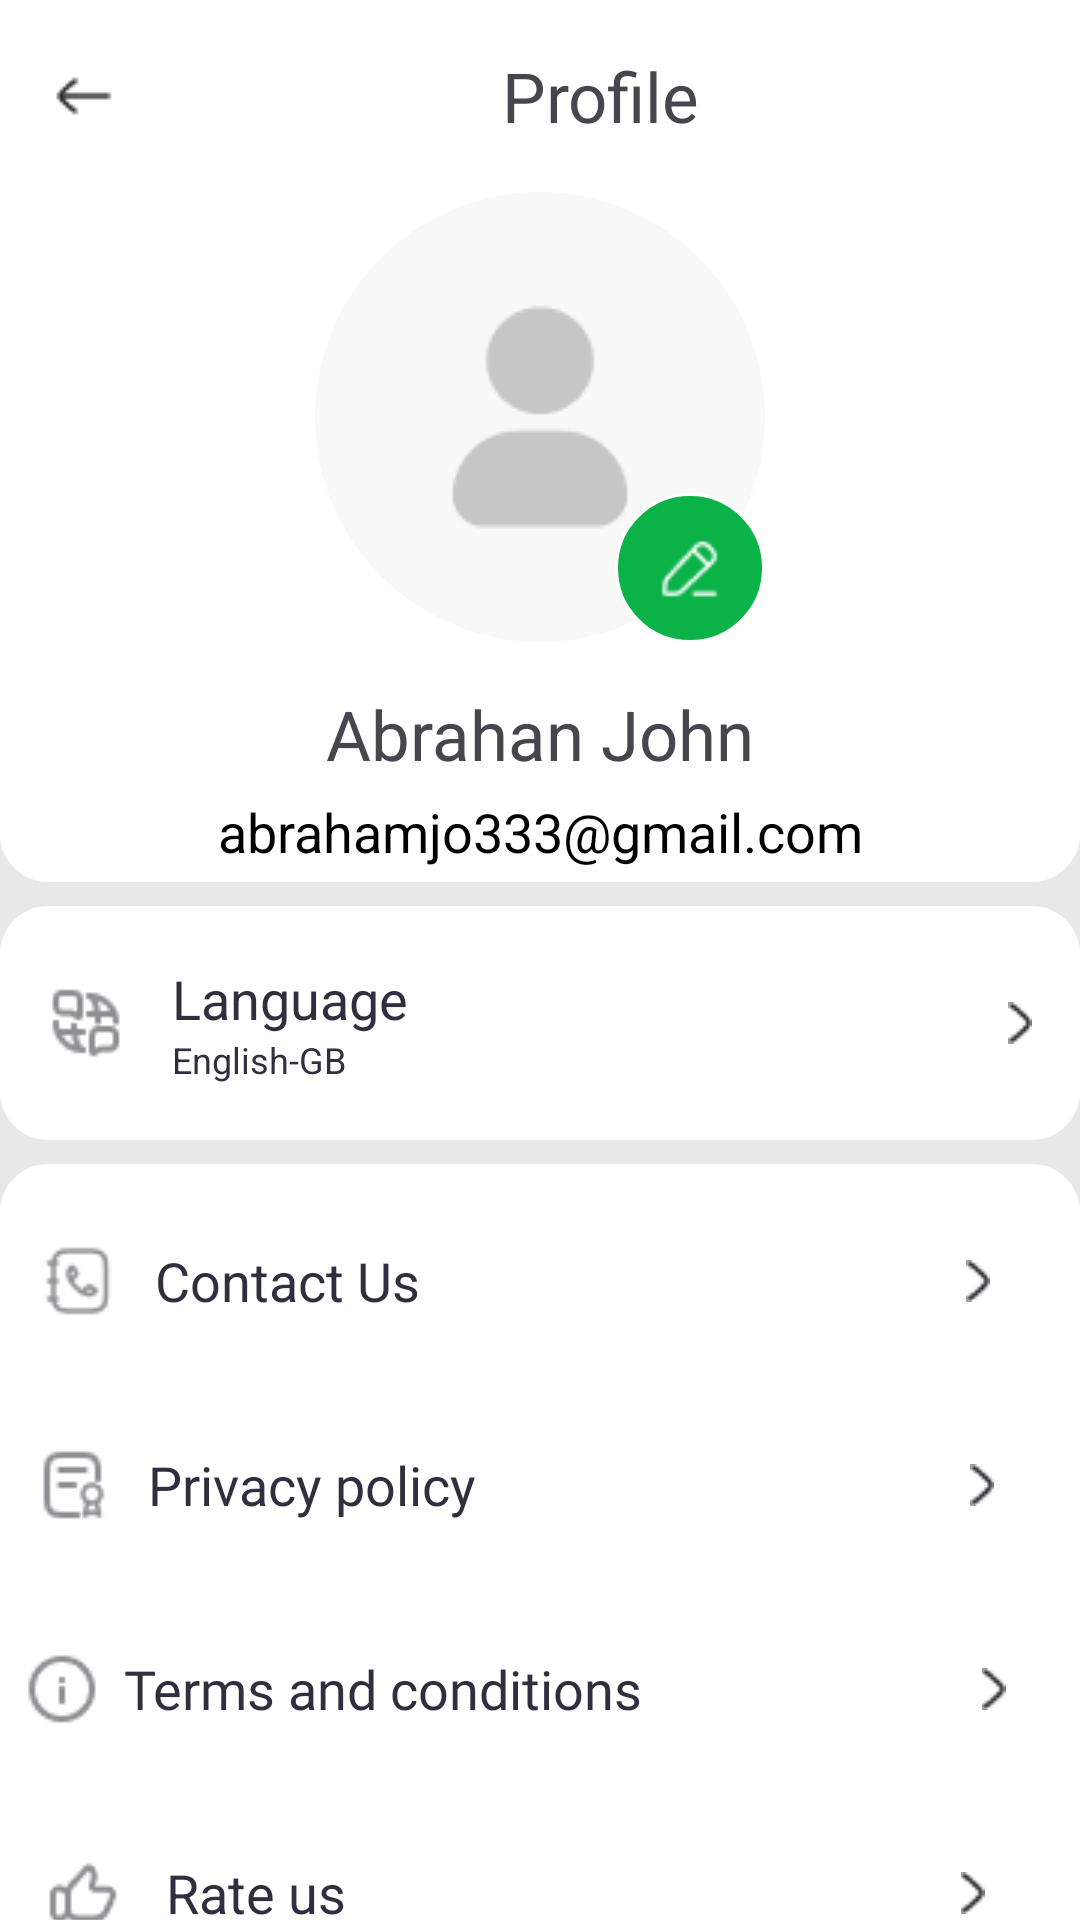

Where to tap for icons on this 1080px×1920px app screen, as [x,y]:
arrow left: [84,96]
edit photo: [689,569]
to right click: [1020,1023], [978,1281], [982,1485], [994,1689], [973,1893]
user: [540,417]
